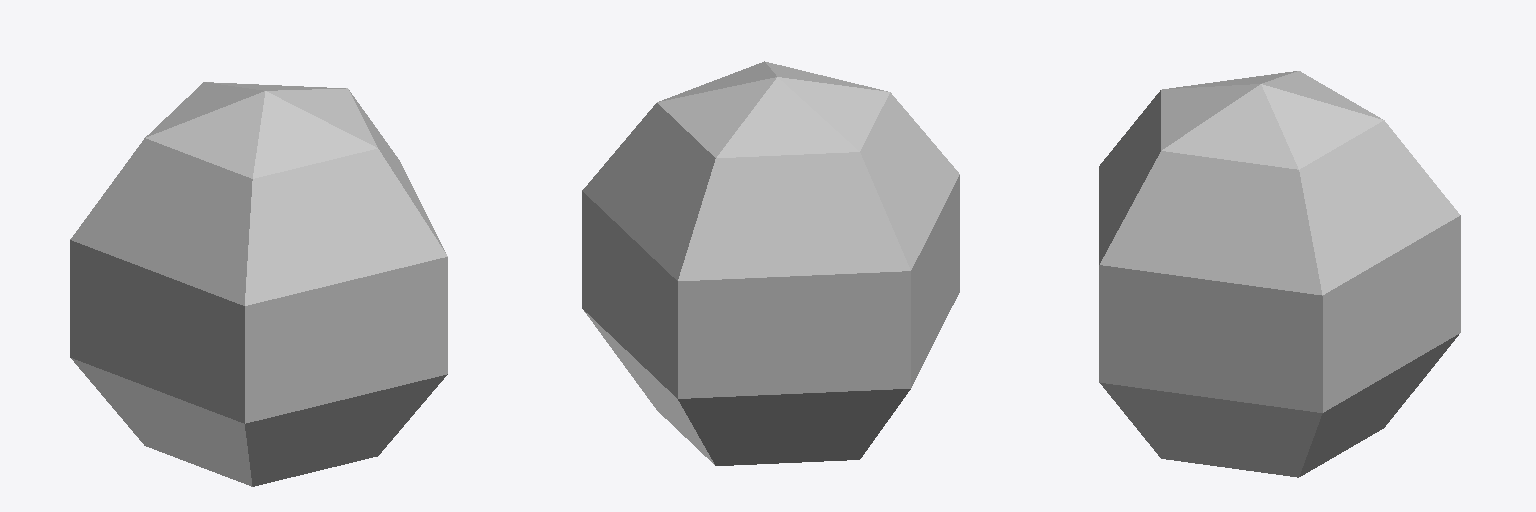
File: Bush.obj
The picture shows the model from 3 angles: view 1: azimuth 30°, elevation 25°; view 2: azimuth 150°, elevation 25°; view 3: azimuth 270°, elevation 25°; orthographic projection.
Visible parts, largest first — view 1: Sphere; view 2: Sphere; view 3: Sphere.
Part boxes in pixels (left/top/right/bottom): Sphere: left=70, top=82, right=447, bottom=486; Sphere: left=582, top=61, right=959, bottom=465; Sphere: left=1099, top=71, right=1460, bottom=477.
Bounding box in the file's own units: 0.9045 × 0.9045 × 0.8602.